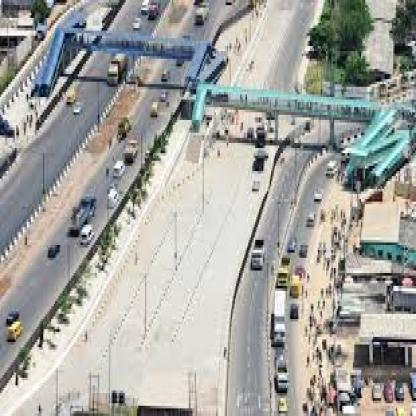car: (264, 281, 290, 355), (96, 52, 126, 104), (250, 232, 270, 277), (274, 346, 290, 395), (77, 221, 97, 256), (110, 106, 129, 141), (43, 231, 62, 264), (323, 154, 343, 184), (8, 321, 23, 349), (193, 2, 209, 26), (111, 153, 125, 179), (7, 302, 21, 324), (149, 100, 161, 120), (64, 93, 76, 110), (130, 16, 140, 36)
